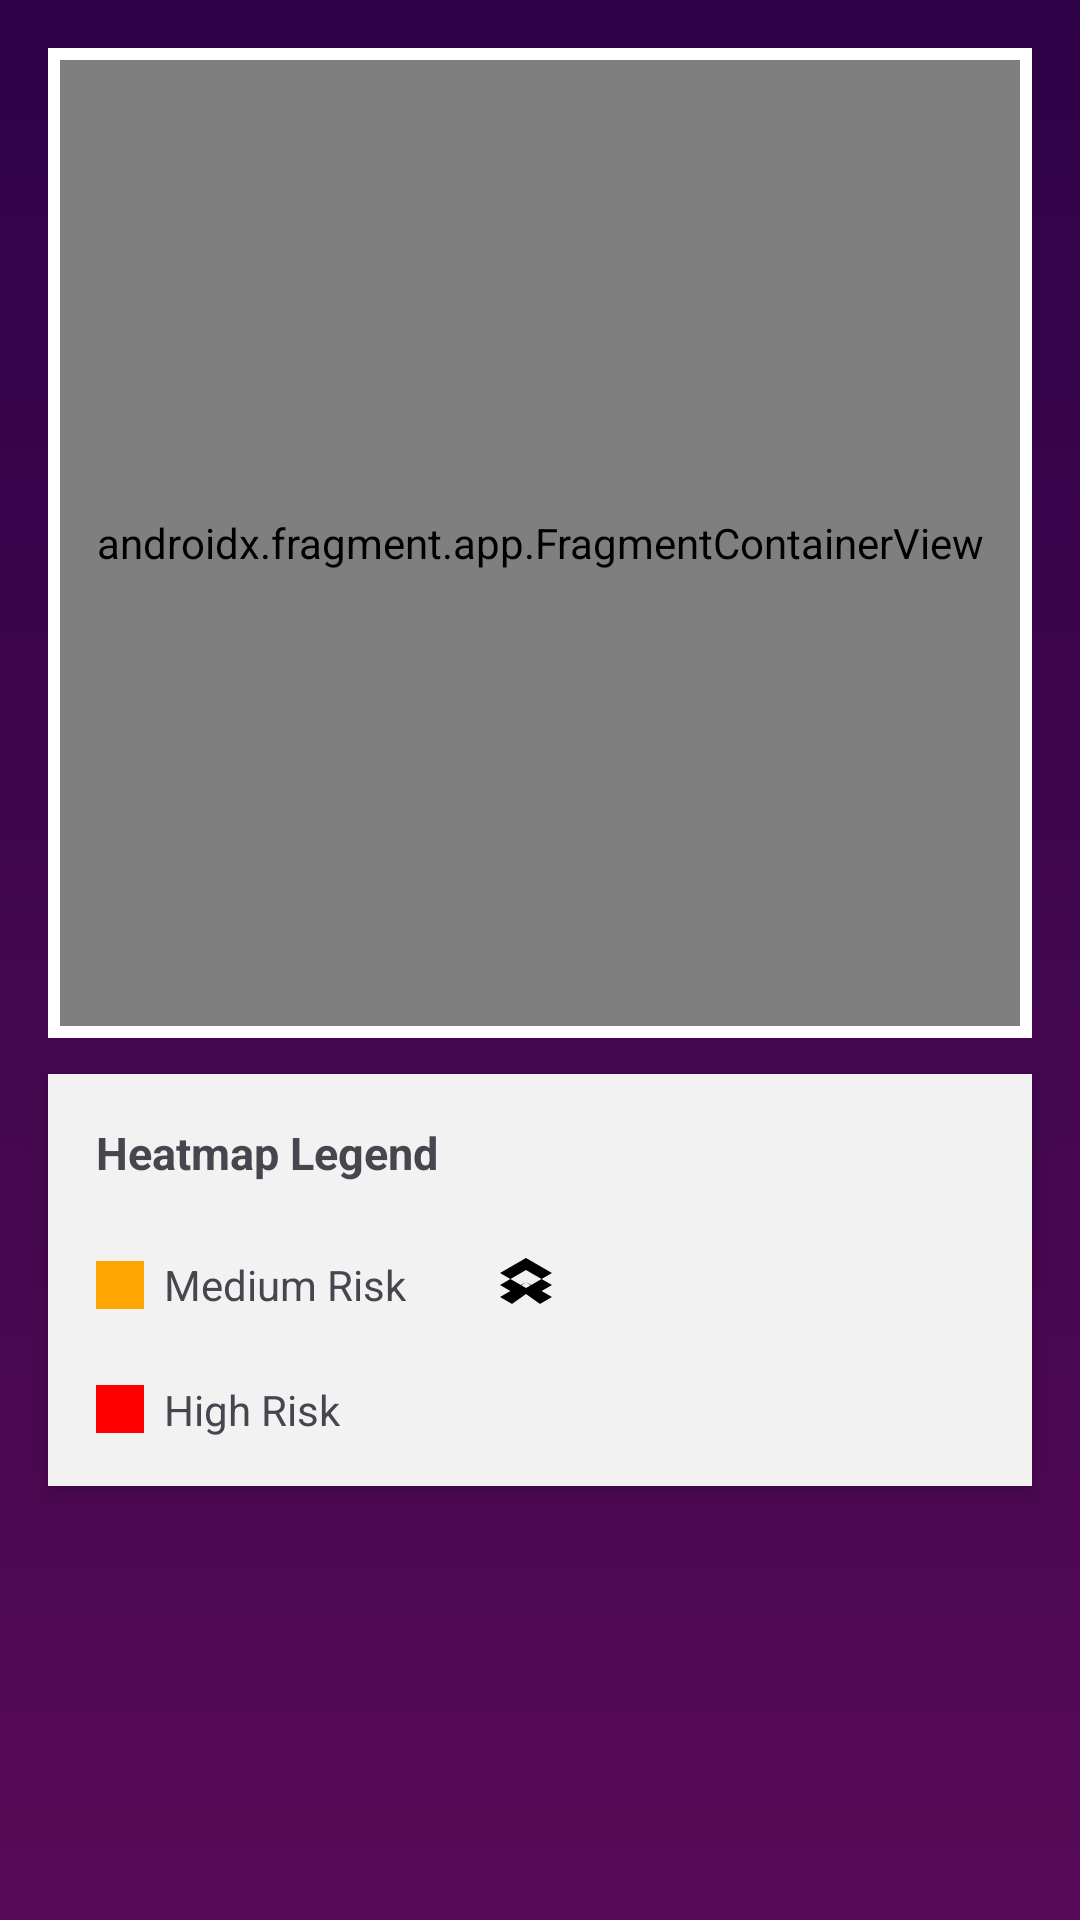

Screen size 1080px x 1920px. Icon name, then its box in pixels as [x1, y1, x2, y2]:
layers: [500, 1258, 552, 1304]
